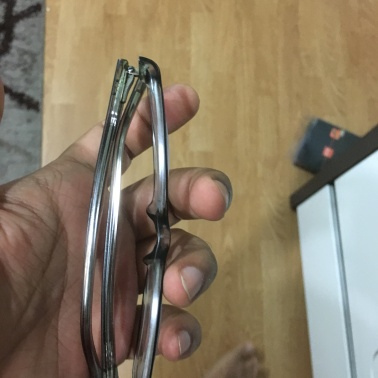glasses: (64, 58, 184, 372)
